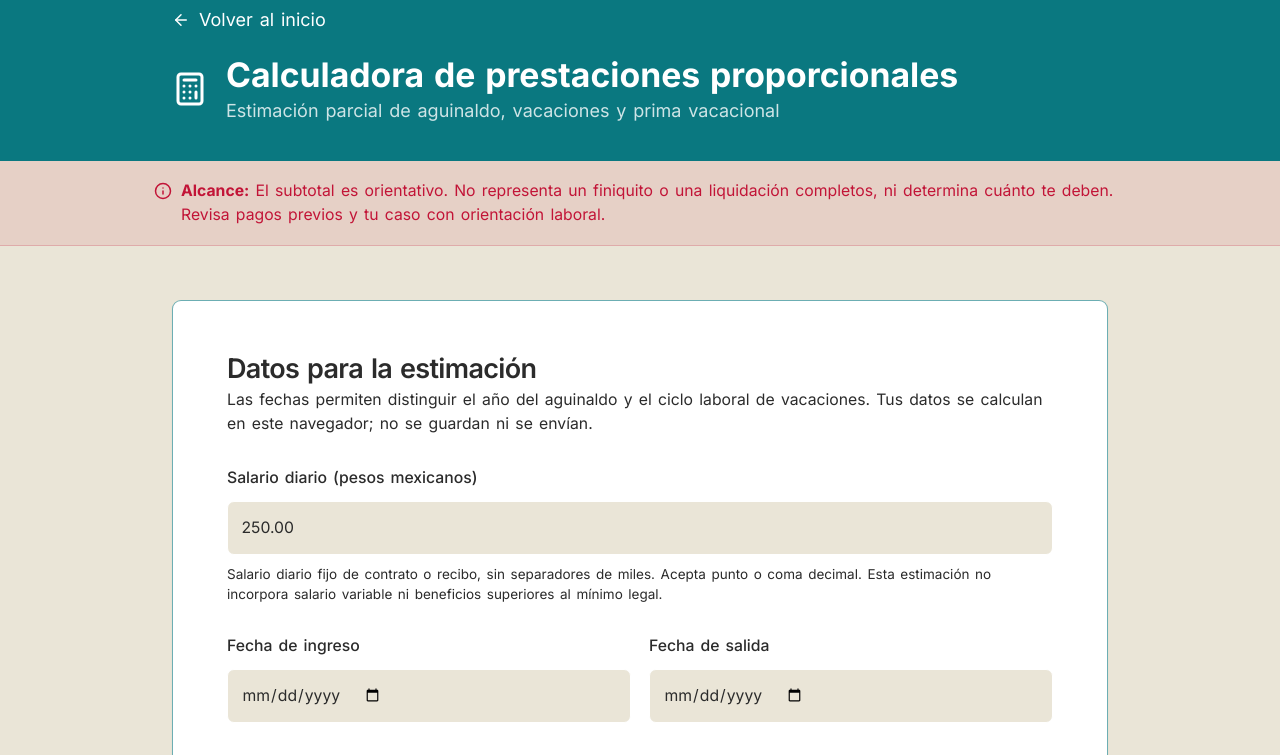
Test: Calculadora de prestaciones proporcionales › rechaza un salario negativo y explica el error sin conservar una estimación
Type "365" into the field labelled "Salario diario (pesos mexicanos)".
click(640, 528); type("365")  # box [227,500,1053,554]
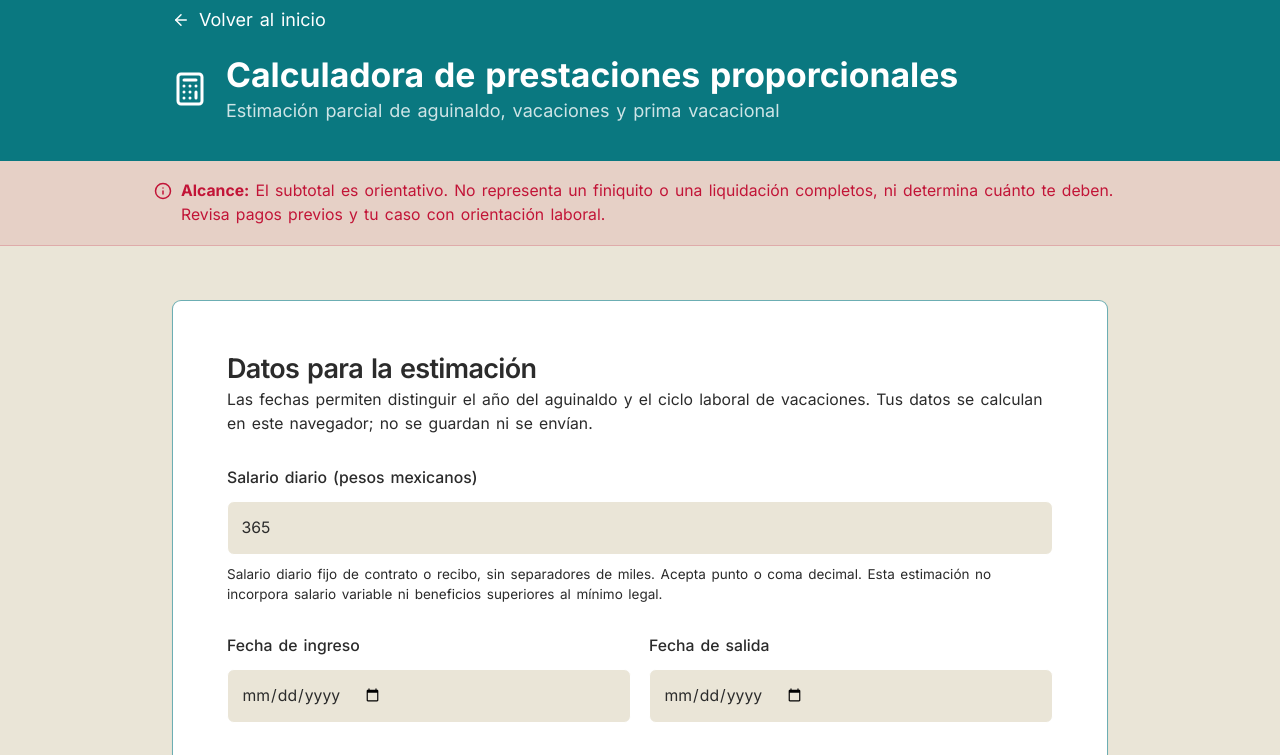
Type "2025-12-30" into the date field labelled "Fecha de ingreso".
click(429, 696); type("2025-12-30")  # box [227,669,631,723]
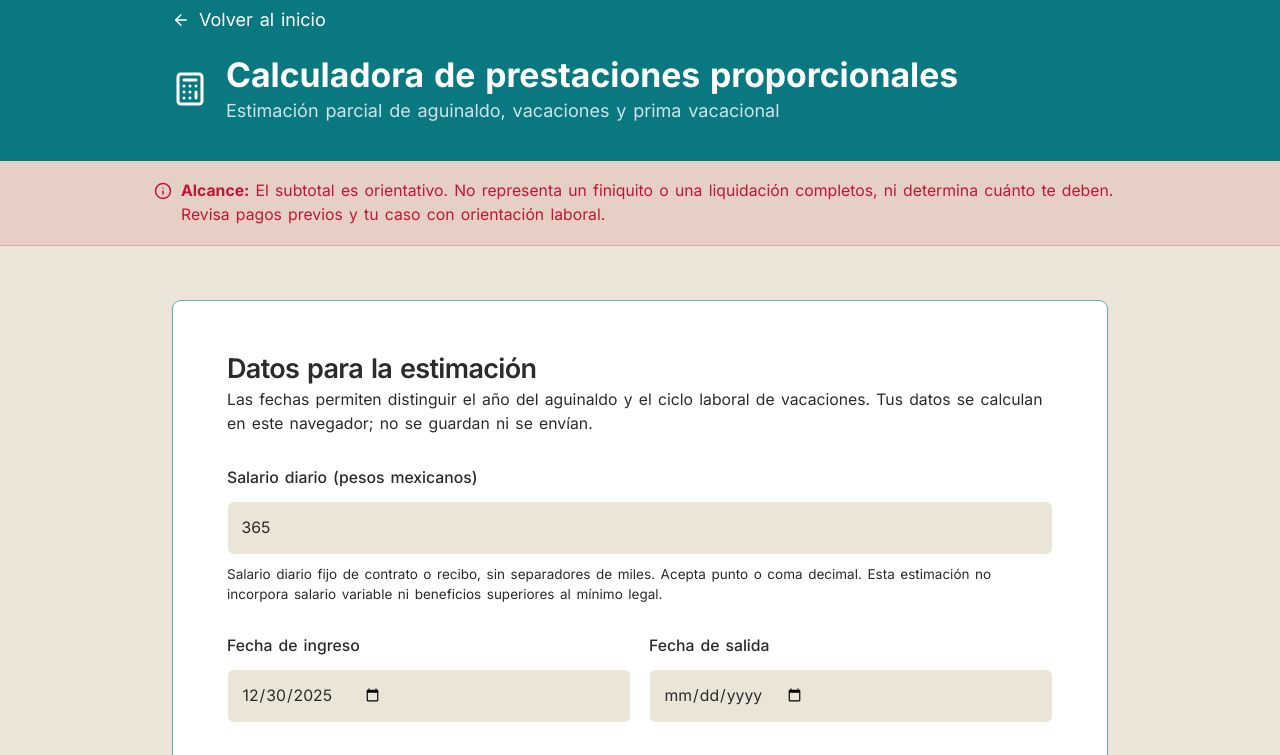
Type "2025-12-31" into the date field labelled "Fecha de salida".
click(851, 696); type("2025-12-31")  # box [649,669,1053,723]
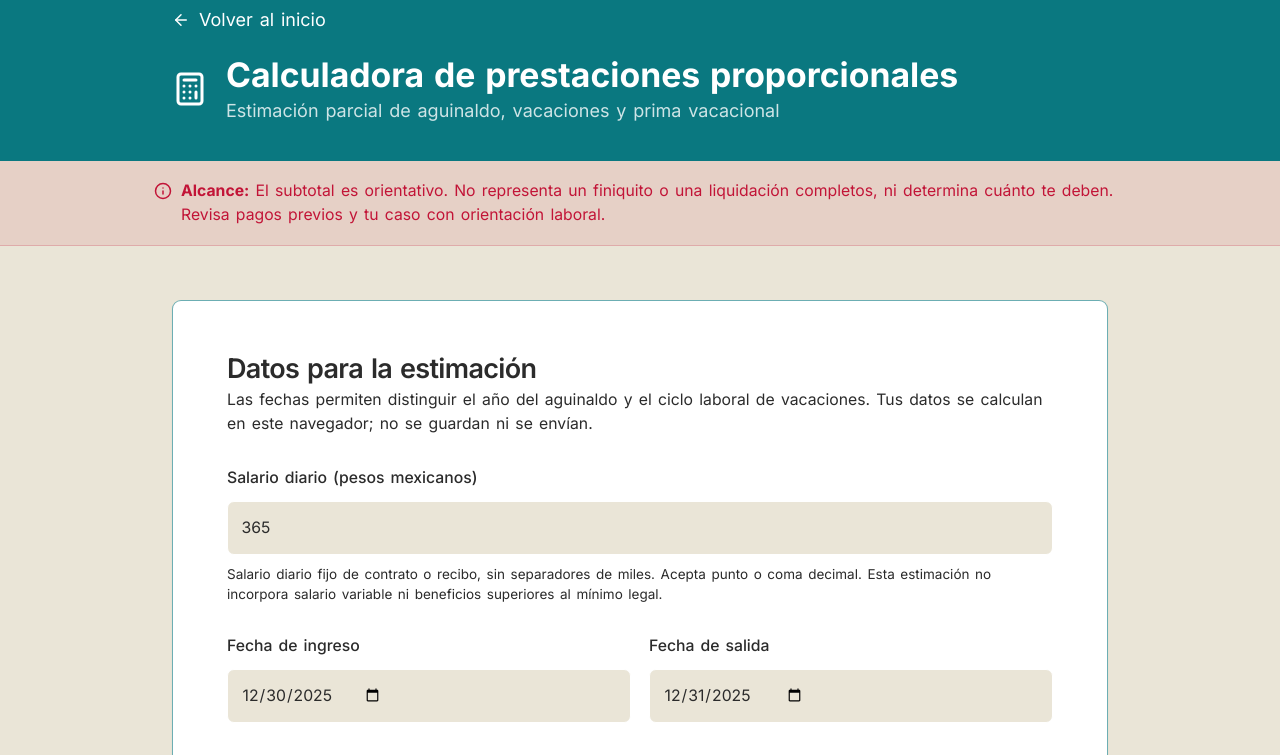
Replace the text in the field labelled "Salario diario (pesos mexicanos)" with "-1" at (640, 528), box [227,500,1053,554]
(page scrolled)
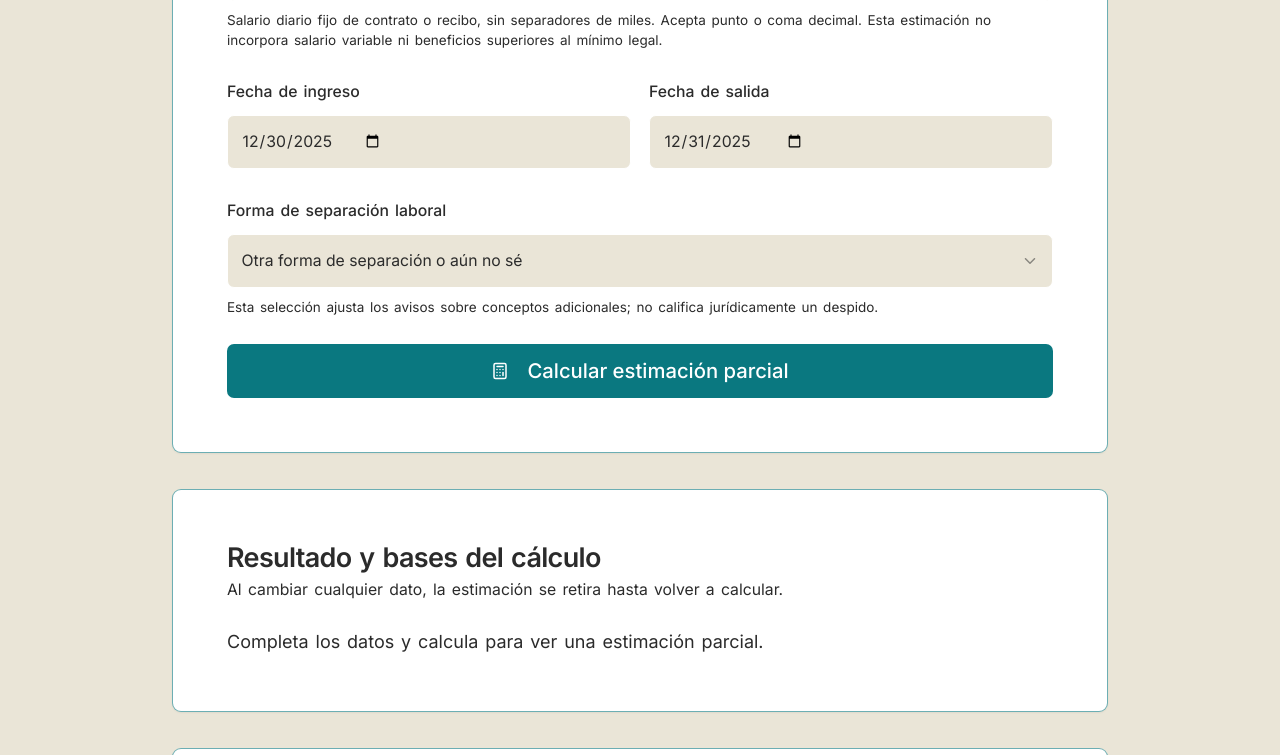
Click the button "Calcular estimación parcial".
click(640, 371)  # box [227,344,1053,398]
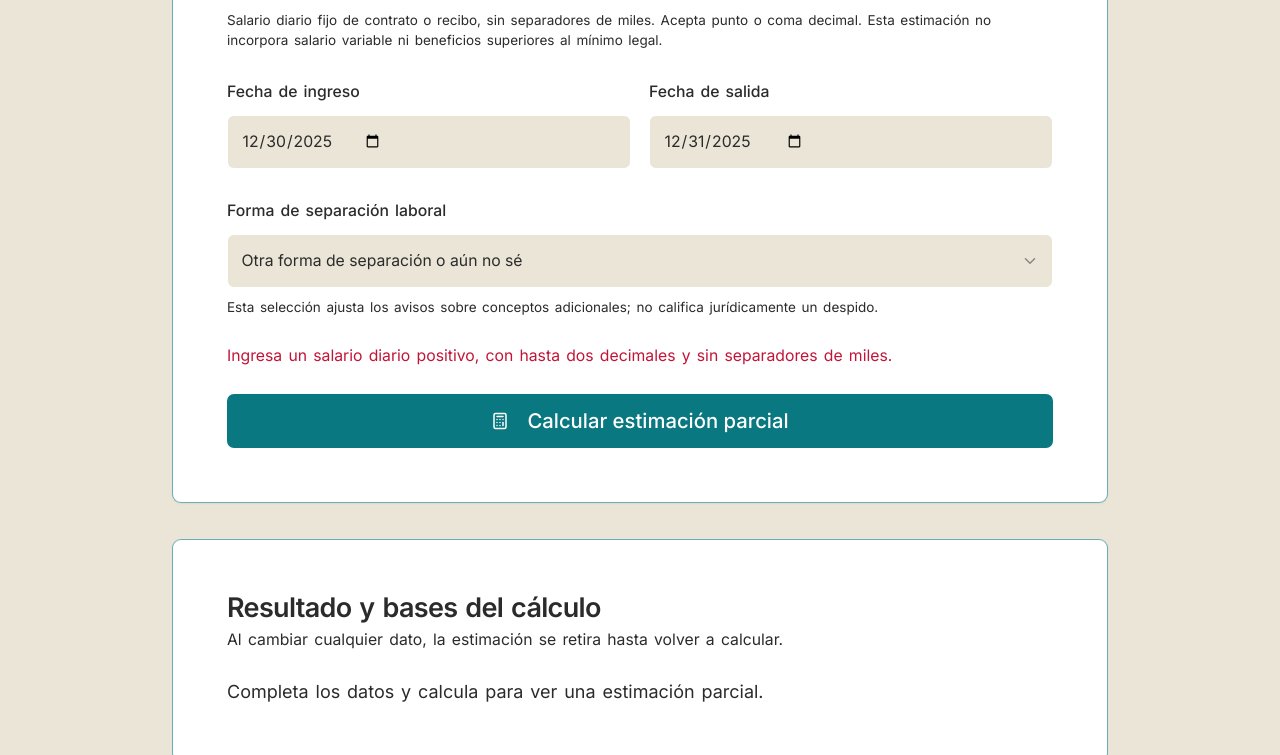
Expected: the message shows "salario diario positivo", [227,346,892,365]
